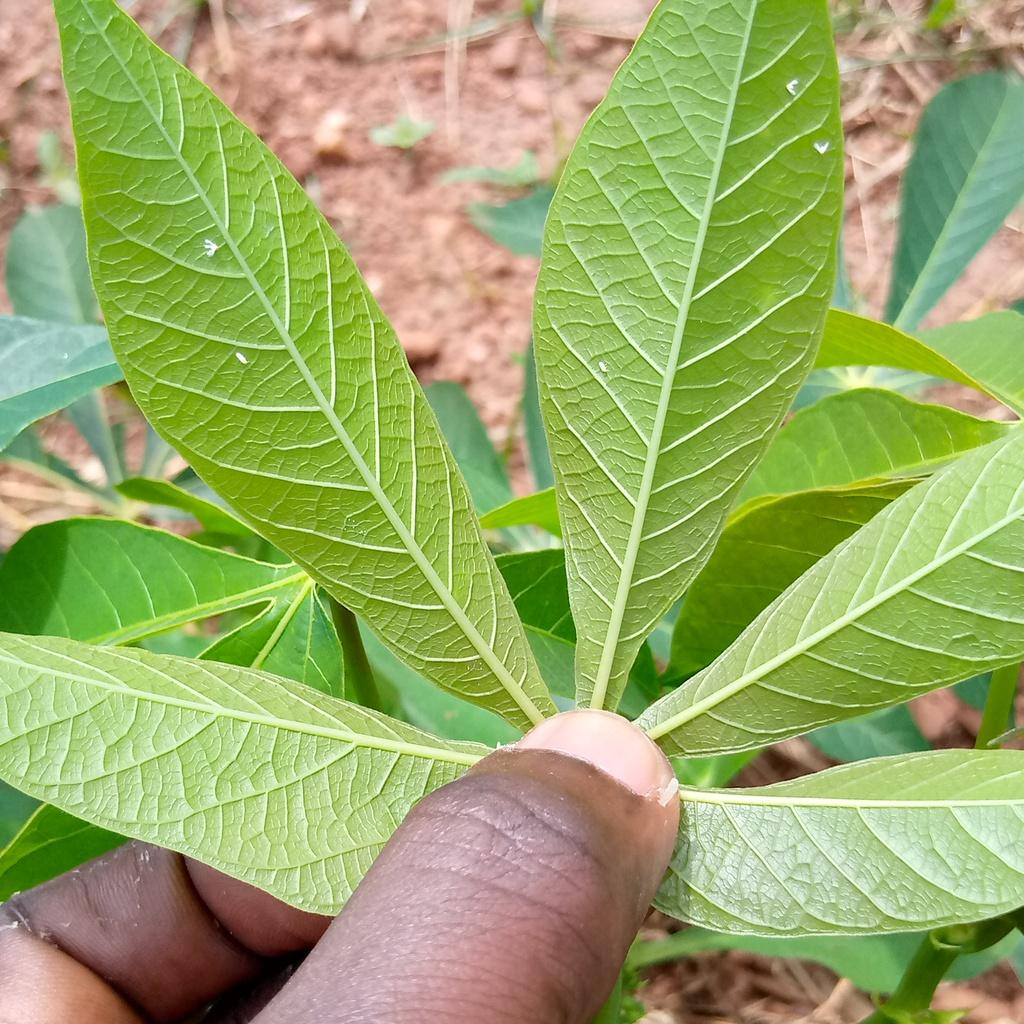adult: (203, 238, 219, 255), (813, 141, 829, 155), (786, 79, 799, 95), (234, 352, 248, 364), (596, 361, 609, 373)
